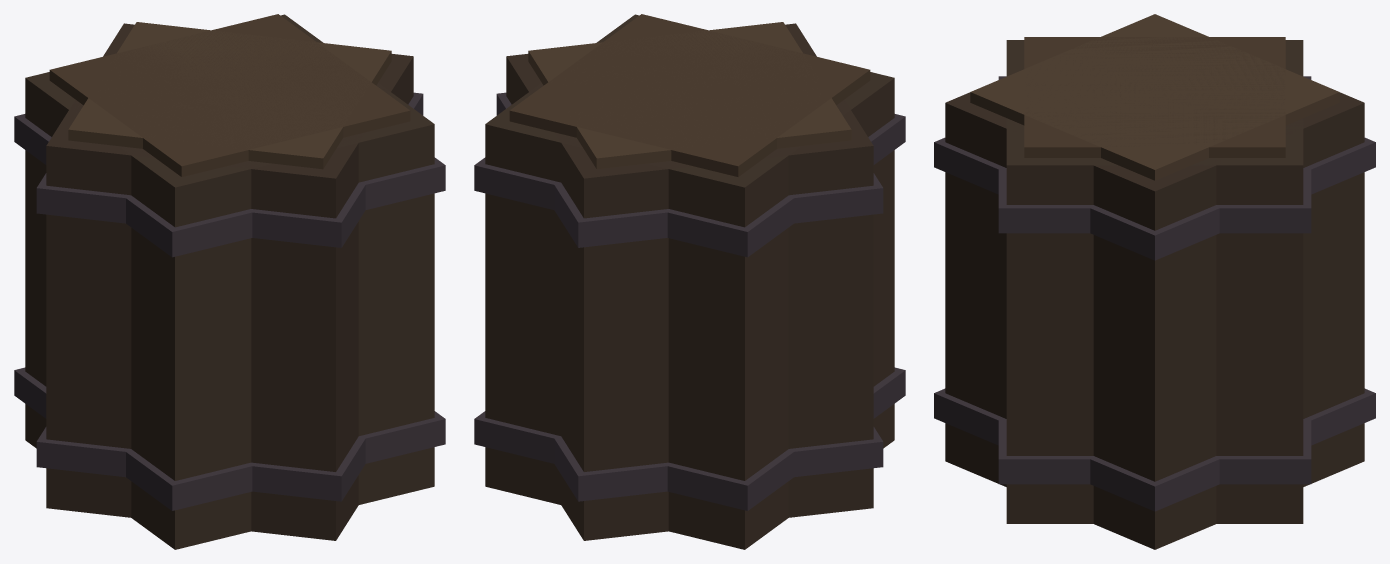
The model's file is barrel.glb.
3 renders of one model, left to right at view 1: azimuth 30°, elevation 25°; view 2: azimuth 150°, elevation 25°; view 3: azimuth 270°, elevation 25°, orthographic.
Parts seen in each view (by area): view 1: barrel; view 2: barrel; view 3: barrel.
Boxes of the visible parts, x1=… form: barrel: x1=14, y1=14, x2=445, y2=549; barrel: x1=474, y1=14, x2=905, y2=549; barrel: x1=934, y1=14, x2=1375, y2=549.
Size of the model in its own units: 1.12 by 1.03 by 1.12.
